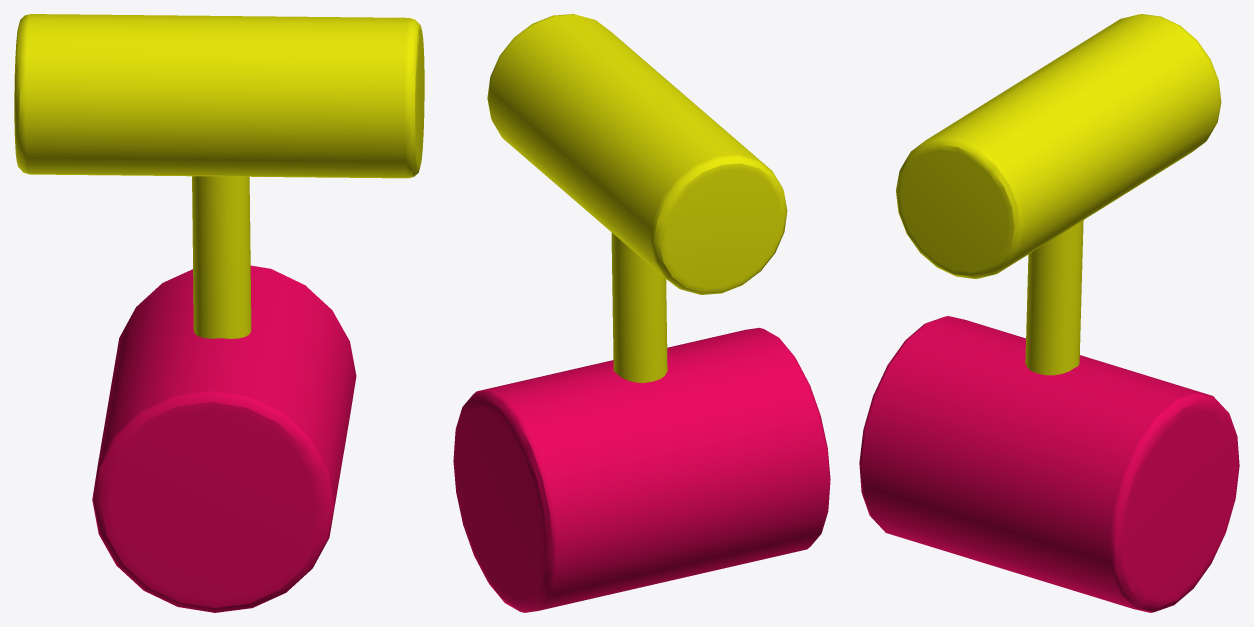
The model's file is Hammer1.fbx.
The picture shows the model from 3 angles, left to right: view 1: azimuth 30°, elevation 25°; view 2: azimuth 150°, elevation 25°; view 3: azimuth 270°, elevation 25°; orthographic projection. The views are drawn at different scales.
Visible parts, largest first — view 1: Hammer1; view 2: Hammer1; view 3: Hammer1.
Part boxes in pixels (bbox=[...]): Hammer1: bbox=[14, 14, 424, 612]; Hammer1: bbox=[453, 14, 830, 612]; Hammer1: bbox=[859, 14, 1239, 612].
Size of the model in its own units: 7.09 by 9.89 by 6.88.
